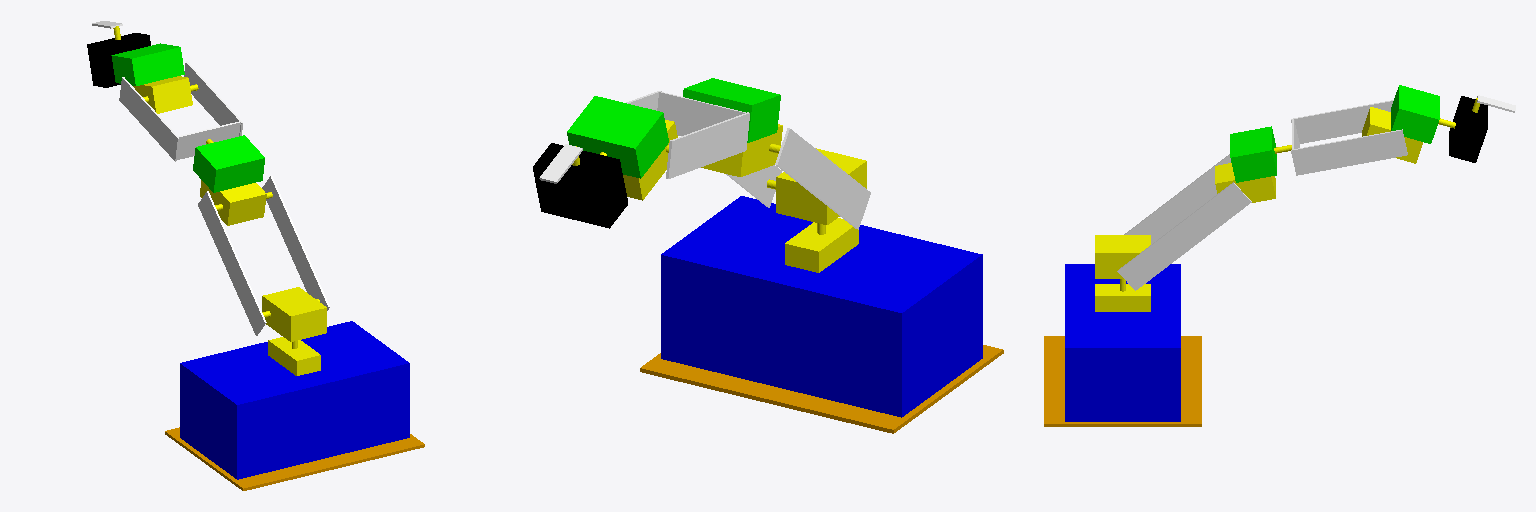
The robot description file, URDF, robot "six_arm":
<?xml version="1.0"?>
<robot name="six_arm"> 
<!--creat baselink-->
  <link name="base_link">
    <visual>
      <geometry>
        <box size="0.20 .15 .003"/>
      </geometry>
    </visual>
  </link>

<!--add dody-->
  <link name="body">
    <visual>
      <geometry>
       <box size="0.19 .11 .08"/>
      </geometry>
      <material name="blue">
          <color rgba="0 0 255 0.8"/>
      </material>  
    </visual>
  </link>  

  <joint name="base_to_body" type="fixed">
    <parent link="base_link"/>
    <child link="body"/>
    <origin xyz="0.0 0.0 0.04"/>
  </joint> 

<!-- shoulder stevo  XY -->
  <link name="shoulder_stevo">
    <visual>
      <geometry>
       <box size="0.054 .0403 .027"/>
      </geometry>
      <material name="black">
          <color rgba="1 1 0 1"/>
      </material>  
    </visual>
  </link> 

 <joint name="body_to_left_shoulder_stevo" type="fixed">
    <parent link="body"/>
    <child link="shoulder_stevo"/>
    <!--origin rpy="1.57075 0 1.57075" xyz="0.04 0.035 0.026"/ -->
    <origin rpy="1.57075 0 1.57075" xyz="0 0 0.036"/>
    <!-- origin rpy="1.57075 0 0" xyz="0.0 0.0 0.026" -->
 </joint>  

<!-- shoulder stevo axis XY -->
  <link name="shoulder_stevo_axis">
    <visual>
      <geometry>
       <cylinder length=".04" radius="0.0029"></cylinder>
      </geometry>
      <material name="yellow">
          <color rgba="1 1 0 1"/>
      </material>  
    </visual>
  </link>

  <joint name="shoulder_stevo_to_axis" type="revolute">
    <axis xyz="0 0 1"/> 
    <parent link="shoulder_stevo"/>
    <child link="shoulder_stevo_axis"/>
    <origin rpy="1.57075 0 0" xyz="0.0 0.027 0.0"/>
    <limit effort="100" velocity="100" lower="0" upper="3.1415926"/> 
    <joint_properties damping="0.0" friction="0.0"/>
  </joint>  

 <!-- shoulder stevo lift  XZ-->
  <link name="shoulder_stevo_lift">
    <visual>
      <geometry>
       <box size="0.054 .0403 .027"/>
      </geometry>
      <material name="black">
          <color rgba="1 1 0 1"/>
      </material>  
    </visual>
  </link> 

  <joint name="shoulder_stevo_axis_to_lift_stevo" type="fixed">
    <parent link="shoulder_stevo_axis"/>
    <child link="shoulder_stevo_lift"/>
    <!-- origin xyz="0.0 -0.01015 -0.028"/ -->
   <origin xyz="0 0 -0.028"/>
  </joint>

 <!-- shoulder stevo lift  axis XZ-->
  <link name="shoulder_stevo_lift_axis">
    <visual>
      <geometry>
       <cylinder length=".0704" radius="0.0029"></cylinder>
      </geometry>
      <material name="yellow">
          <color rgba="1 1 0 1"/>
      </material>  
    </visual>
  </link>

  <joint name="shoulder_stevo_lift_to_axis" type="continuous">
    <axis xyz="0 0 1"/> 
    <parent link="shoulder_stevo_lift"/>
    <child link="shoulder_stevo_lift_axis"/>
    <origin rpy="1.57075 0.7 0" xyz="0.0135 0.0 0.0"/>
    <limit effort="100" velocity="100"/> 
    <joint_properties damping="0.0" friction="0.0"/>
  </joint>     

<!-- big arm -->
  <!-- eft side-->
  <link name="big_arm_up">
    <visual>
      <geometry>
       <box size="0.145 .027 .002"/>
      </geometry>
      <material name="sliver">
          <color rgba="223 223 223 1"/>
      </material>  
    </visual>
  </link> 

 <joint name="shoulder_stevo_lift_axis_to_left_big_arm" type="fixed">
    <parent link="shoulder_stevo_lift_axis"/>
    <child link="big_arm_up"/>
    <!-- origin xyz="0.059 0.0 -0.035"/ -->
    <origin rpy="0 0 0" xyz="0.059 0.0 -0.035"/>
  </joint>  

 <!-- right side-->
  <link name="big_arm_down">
    <visual>
      <geometry>
       <box size="0.145 .027 .002"/>
      </geometry>
      <material name="sliver">
          <color rgba="223 223 223 1"/>
      </material>  
    </visual>
  </link> 

 <joint name="big_arm_up_to_left_big_arm_down" type="fixed">
    <parent link="big_arm_up"/>
    <child link="big_arm_down"/>
    <origin xyz="0.0 0.0 0.07"/>
  </joint>   


<!-- arm stevo-->

  <link name="arm_stevo_axis">
    <visual>
      <geometry>
       <cylinder length=".0704" radius="0.0029"></cylinder>
      </geometry>
      <material name="yellow">
          <color rgba="1 1 0 1"/>
      </material>  
    </visual>
  </link>

  <joint name="big_arm_up_to_axis" type="revolute">
    <axis xyz="0 0 1"/> 
    <parent link="big_arm_up"/>
    <child link="arm_stevo_axis"/>
    <origin rpy="0 0 0.5" xyz="0.059 0.0 0.0352"/>
    <limit effort="100" velocity="100" lower="0" upper="3.1415926"/> 
    <joint_properties damping="0.0" friction="0.0"/>
  </joint>  

  <link name="arm_stevo">
    <visual>
      <geometry>
       <box size="0.054 .027 .0403"/>
      </geometry>
      <material name="black">
          <color rgba="1 1 0 1"/>
      </material>  
    </visual>
  </link> 

 <joint name="big_arm_up_to_axis_to_arm_stevo" type="fixed">
    <parent link="arm_stevo_axis"/>
    <child link="arm_stevo"/>
    <origin xyz="0.0135 0.0 0.0"/>
  </joint>  

<!-- small arm -->



 <!-- small arm stering servo-->
   <link name="small_arm_run_stevo">
    <visual>
      <geometry>
       <box size="0.054 .027 .0403"/>
      </geometry>
      <material name="green">
          <color rgba="0 255 0 1 "/>
      </material>  
    </visual>
  </link> 

 <joint name="arm_stevo_to_arm_run_stevo" type="fixed">
    <parent link="arm_stevo"/>
    <child link="small_arm_run_stevo"/>
    <origin rpy="0 1.57075 0" xyz="0.0135 -0.027 0.0"/>
  </joint>   

  <link name="small_arm_run_stevo_axis">
    <visual>
      <geometry>
       <cylinder length=".04" radius="0.0029"></cylinder>
      </geometry>
      <material name="yellow">
          <color rgba="1 1 0 1"/>
      </material>  
    </visual>
  </link>

  <joint name="small_arm_run_stevo_to_axis" type="revolute">
    <axis xyz="0 0 1"/> 
    <parent link="small_arm_run_stevo"/>
    <child link="small_arm_run_stevo_axis"/>
    <!-- origin rpy="0 0 0" xyz="0.0135 0 0.020"/ -->
    <origin rpy="0 0 0" xyz="0 0 0.020"/>
    <limit effort="100" velocity="100" lower="0" upper="3.1415926"/> 
    <joint_properties damping="0.0" friction="0.0"/>
  </joint> 





 <!-- left side-->
  <link name="small_arm_up">
    <visual>
      <geometry>
       <box size="0.10875 .027 .002"/>
      </geometry>
      <material name="sliver">
          <color rgba="223 223 223 1"/>
      </material>  
    </visual>
  </link> 

 <joint name="arm_run_stevo_axis_to_left_small_arm_up" type="fixed">
    <parent link="small_arm_run_stevo_axis"/>
    <child link="small_arm_up"/>
    <!-- origin rpy="0 -1.57075 0" xyz="0.073 0.0 -0.035"/ -->
    <origin rpy="0 -1.57075 0" xyz="0.035 0 0.073"/>
  </joint>  

  <!-- right side-->
  <link name="small_arm_down">
    <visual>
      <geometry>
       <box size="0.10875 .027 .002"/>
      </geometry>
      <material name="sliver">
          <color rgba="223 223 223 1"/>
      </material>  
    </visual>
  </link> 

 <joint name="small_arm_up_to_small_arm_down" type="fixed">
    <parent link="small_arm_up"/>
    <child link="small_arm_down"/>
    <origin xyz="0.0 0.0 0.07"/>
  </joint>  

 <!-- middle side-->
  <link name="small_arm_middle">
    <visual>
      <geometry>
       <box size="0.07 .027 .002"/>
      </geometry>
      <material name="sliver">
          <color rgba="223 223 223 1"/>
      </material>  
    </visual>
  </link> 

 <joint name="small_arm_up_to_small_arm_middle" type="fixed">
    <parent link="small_arm_up"/>
    <child link="small_arm_middle"/>
    <origin rpy="0 1.57075 0" xyz="-0.052 0.0 0.035"/>
  </joint> 

<!--wrist stevo-->
  <link name="wrist_stevo_axis">
    <visual>
      <geometry>
       <cylinder length=".0704" radius="0.0029"></cylinder>
      </geometry>
      <material name="yellow">
          <color rgba="1 1 0 1"/>
      </material>  
    </visual>
  </link>

  <joint name="small_arm_up_to_axis" type="revolute">
    <axis xyz="0 0 1"/> 
    <parent link="small_arm_up"/>
    <child link="wrist_stevo_axis"/>
    <origin rpy="0 0 0.5" xyz="0.0295 0.0 0.0352"/>
    <limit effort="100" velocity="100" lower="0" upper="3.1415926"/> 
    <joint_properties damping="0.0" friction="0.0"/>
  </joint>  

  <link name="wrist_stevo">
    <visual>
      <geometry>
       <box size="0.054 .027 .0403"/>
      </geometry>
      <material name="black">
          <color rgba="1 1 0 1"/>
      </material>  
    </visual>
  </link> 

 <joint name="small_arm_up_to_axis_to_axis_stevo" type="fixed">
    <parent link="wrist_stevo_axis"/>
    <child link="wrist_stevo"/>
    <origin xyz="0.0135 0.0 0.0"/>
  </joint> 

<!--wrist stering stevo-->
  <link name="wrist_run_stevo">
    <visual>
      <geometry>
       <box size="0.054 .027 .0403"/>
      </geometry>
      <material name="green">
          <color rgba="0 255 0 1 "/>
      </material>  
    </visual>
  </link> 

 <joint name="wrist_stevo_to_wrist_run_stevo" type="fixed">
    <parent link="wrist_stevo"/>
    <child link="wrist_run_stevo"/>
    <origin rpy="0 1.57075 0" xyz="0.0135 -0.027 0.0"/>
  </joint>   

  <link name="wrist_run_stevo_axis">
    <visual>
      <geometry>
       <cylinder length=".04" radius="0.0029"></cylinder>
      </geometry>
      <material name="yellow">
          <color rgba="1 1 0 1"/>
      </material>  
    </visual>
  </link>

  <joint name="wrist_run_stevo_to_axis" type="revolute">
    <axis xyz="0 0 1"/> 
    <parent link="wrist_run_stevo"/>
    <child link="wrist_run_stevo_axis"/>
    <!-- origin rpy="0 0 0" xyz="0.0135 0 0.020"/ -->
    <origin rpy="0 0 0" xyz="0 0 0.020"/>
    <limit effort="100" velocity="100" lower="0" upper="3.1415926"/> 
    <joint_properties damping="0.0" friction="0.0"/>
  </joint> 

<!-- hand run stevo -->
  <link name="hand_run_stevo">
    <visual>
      <geometry>
       <box size="0.054 .027 .0403"/>
      </geometry>
      <material name="black">
          <color rgba="0 0 0 1 "/>
      </material>  
    </visual>
  </link> 

 <joint name="wrist_run_stevo_axis_to_hand_run_stevo" type="fixed">
    <parent link="wrist_run_stevo_axis"/>
    <child link="hand_run_stevo"/>
    <origin rpy="1.57075 0 0" xyz="0.0 0.0 0.0335"/>
  </joint>  

 <link name="hand_run_stevo_axis">
    <visual>
      <geometry>
       <cylinder length=".04" radius="0.0029"></cylinder>
      </geometry>
      <material name="yellow">
          <color rgba="1 1 0 1"/>
      </material>  
    </visual>
  </link>


  <joint name="hand_run_stevo_to_hand_run_stevo_axis" type="revolute">
    <axis xyz="0 0 1"/> 
    <parent link="hand_run_stevo"/>
    <child link="hand_run_stevo_axis"/>
    <!-- origin rpy="0 0 0" xyz="0.0135 0 0.0135"/ -->
    <origin rpy="0 0 0" xyz="0 0 0.0135"/>
    <limit effort="100" velocity="100" lower="0" upper="3.1415916"/> 
    <joint_properties damping="0.0" friction="0.0"/>
  </joint>    


<!--finger-->
  <link name="finger">
    <visual>
      <geometry>
       <box size="0.0375 .0135 .002"/>
      </geometry>
      <material name="sliver">
          <color rgba="223 223 223 1"/>
      </material>  
    </visual>
  </link> 

 <joint name="hand_run_stevo_axis_to_finger" type="fixed">
    <parent link="hand_run_stevo_axis"/>
    <child link="finger"/>
    <origin rpy="0 0 1.57075" xyz="0.0 0.0173 0.02"/>
  </joint>     

</robot>

--- What the picture shows (computed from the rendered views, not written in the file) ---
The picture shows the robot from 3 angles, left to right: view 1: azimuth 30°, elevation 25°; view 2: azimuth 150°, elevation 25°; view 3: azimuth 270°, elevation 25°; orthographic projection.
Model six_arm with 22 links and 21 joints (6 revolute, 1 continuous, 14 fixed), rooted at base_link, posed every joint at zero.
Visible links, largest first — view 1: body, small_arm_run_stevo, base_link, shoulder_stevo_lift, wrist_run_stevo, big_arm_down, big_arm_up, arm_stevo, hand_run_stevo, small_arm_down, wrist_stevo, shoulder_stevo (+2 smaller); view 2: body, base_link, wrist_run_stevo, hand_run_stevo, big_arm_down, small_arm_down, small_arm_run_stevo, shoulder_stevo, shoulder_stevo_lift, small_arm_middle, arm_stevo, wrist_stevo (+2 smaller); view 3: body, base_link, big_arm_up, small_arm_up, big_arm_down, wrist_run_stevo, small_arm_run_stevo, small_arm_down, hand_run_stevo, shoulder_stevo_lift, shoulder_stevo, arm_stevo (+1 smaller).
Boxes of the visible links, box(x1,y1,x2,y2) form: body: box(180, 321, 409, 479); small_arm_run_stevo: box(193, 135, 264, 192); base_link: box(165, 427, 424, 490); shoulder_stevo_lift: box(262, 287, 326, 341); wrist_run_stevo: box(111, 43, 184, 85); big_arm_down: box(198, 191, 266, 335); big_arm_up: box(262, 176, 329, 310); arm_stevo: box(200, 180, 266, 225); hand_run_stevo: box(87, 33, 150, 87); small_arm_down: box(119, 77, 179, 161); wrist_stevo: box(133, 76, 192, 113); shoulder_stevo: box(268, 337, 320, 375); body: box(661, 196, 982, 417); base_link: box(640, 345, 1003, 433); wrist_run_stevo: box(567, 96, 668, 178); hand_run_stevo: box(533, 143, 627, 228); big_arm_down: box(775, 128, 870, 229); small_arm_down: box(666, 112, 749, 178); small_arm_run_stevo: box(683, 78, 780, 142); shoulder_stevo: box(785, 218, 858, 272); shoulder_stevo_lift: box(776, 148, 866, 224); small_arm_middle: box(657, 92, 745, 135); arm_stevo: box(701, 124, 782, 176); wrist_stevo: box(623, 120, 677, 200); body: box(1065, 264, 1180, 421); base_link: box(1044, 336, 1201, 426); big_arm_up: box(1117, 182, 1251, 290); small_arm_up: box(1291, 129, 1407, 175); big_arm_down: box(1124, 154, 1230, 244); wrist_run_stevo: box(1391, 85, 1439, 143); small_arm_run_stevo: box(1230, 126, 1276, 182); small_arm_down: box(1291, 100, 1393, 143); hand_run_stevo: box(1449, 96, 1487, 162); shoulder_stevo_lift: box(1095, 235, 1150, 278); shoulder_stevo: box(1095, 284, 1150, 311); arm_stevo: box(1215, 163, 1275, 202).
Bounding box of the posed robot: 0.2 × 0.4494 × 0.3014 m (x, y, z).
Geometry: primitives only (box / cylinder / sphere), no mesh files.
